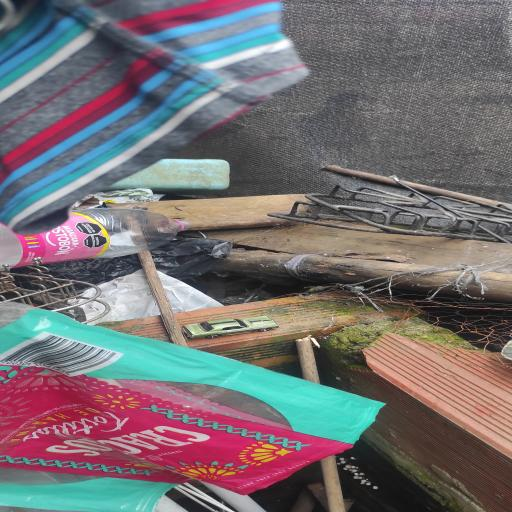Carrito: (182, 316, 280, 339)
